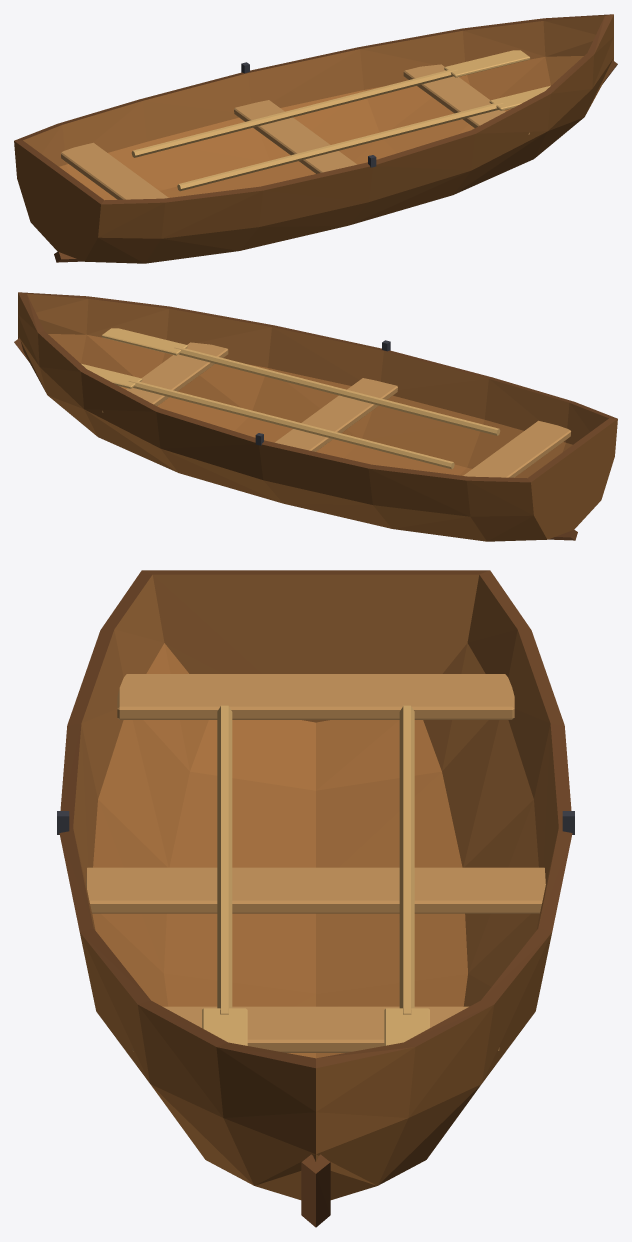
File: Prop_Rowboat.fbx
3 renders of one model, top to bottom at view 1: azimuth 30°, elevation 25°; view 2: azimuth 150°, elevation 25°; view 3: azimuth 270°, elevation 25°, orthographic. The views are drawn at different scales.
Visible parts, largest first — view 1: Prop_Rowboat; view 2: Prop_Rowboat; view 3: Prop_Rowboat.
Part boxes in pixels (bbox=[...]): Prop_Rowboat: bbox=[14, 14, 617, 263]; Prop_Rowboat: bbox=[14, 292, 617, 541]; Prop_Rowboat: bbox=[57, 570, 574, 1227].
Bounding box in the file's own units: 3.13 × 0.6909 × 1.25.
